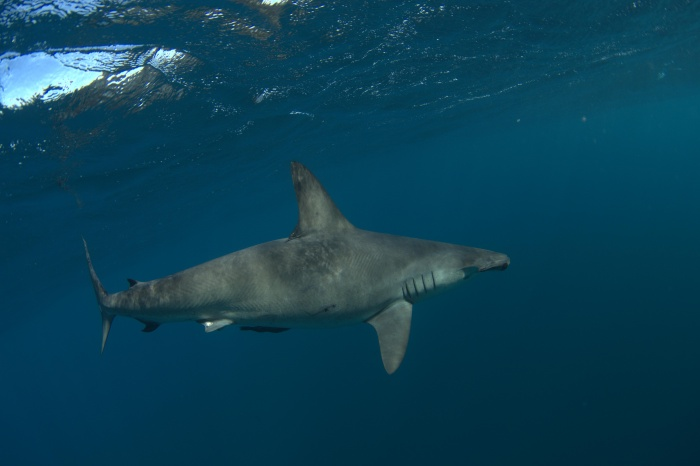Hammer: (26, 150, 545, 404)
